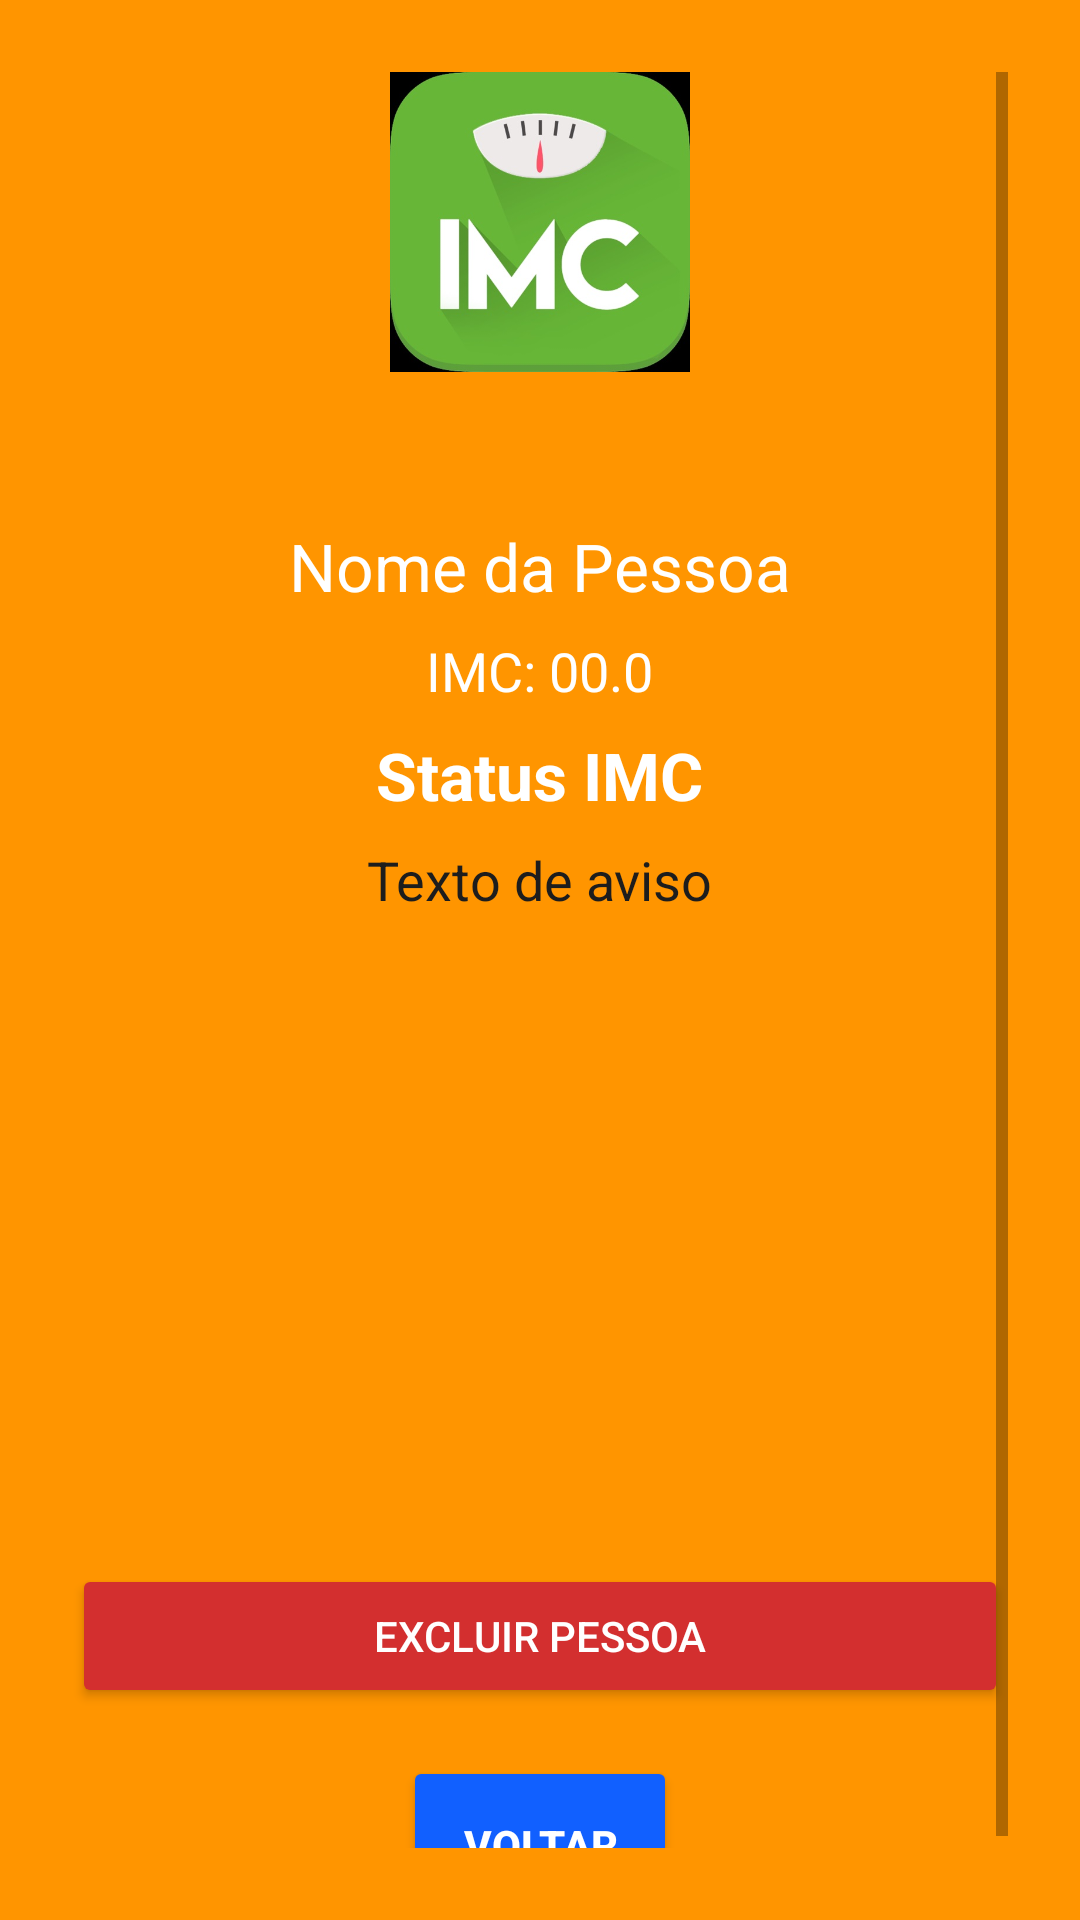

Where icons sit on this 1080 x 1920 app screen, as (x1, y1, x2, y2):
app: (390, 72, 690, 372)
